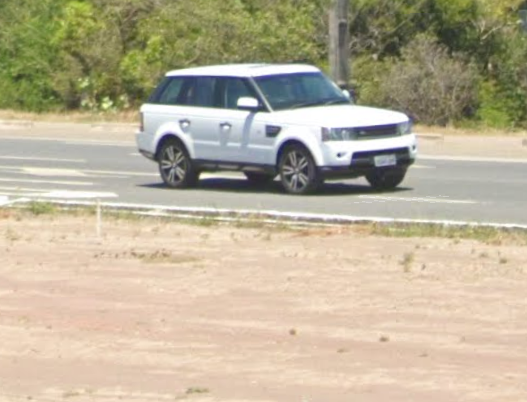car: (134, 61, 420, 196)
